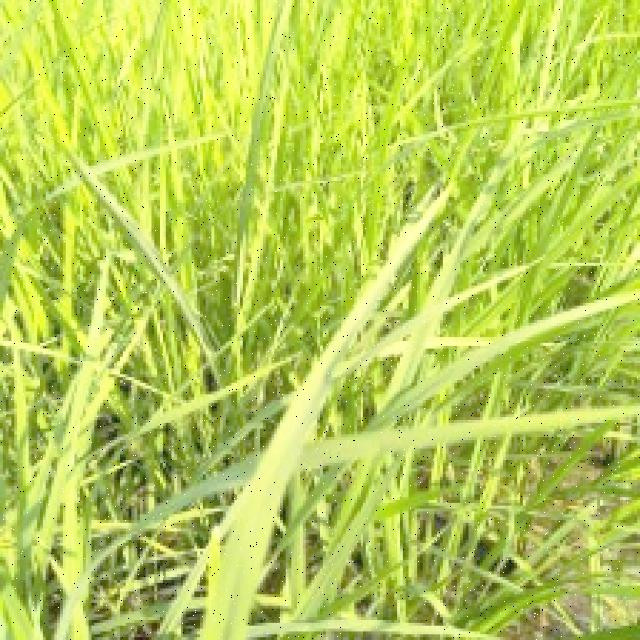health: (2, 1, 640, 153)
